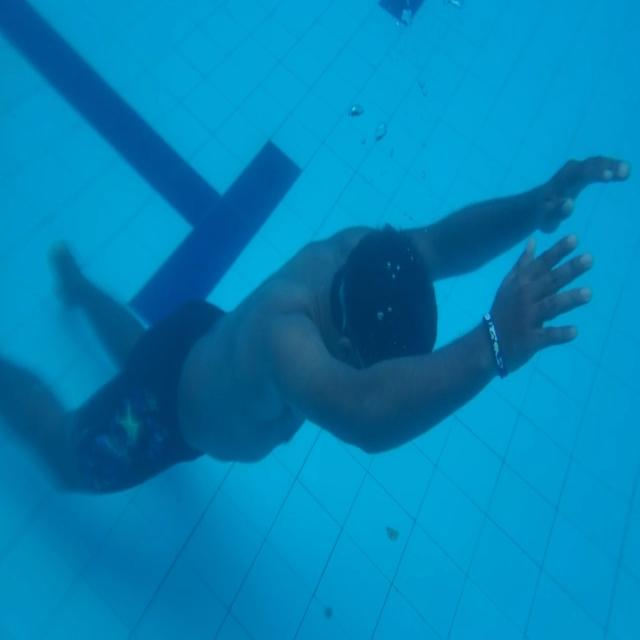Drowning: (0, 155, 634, 494)
